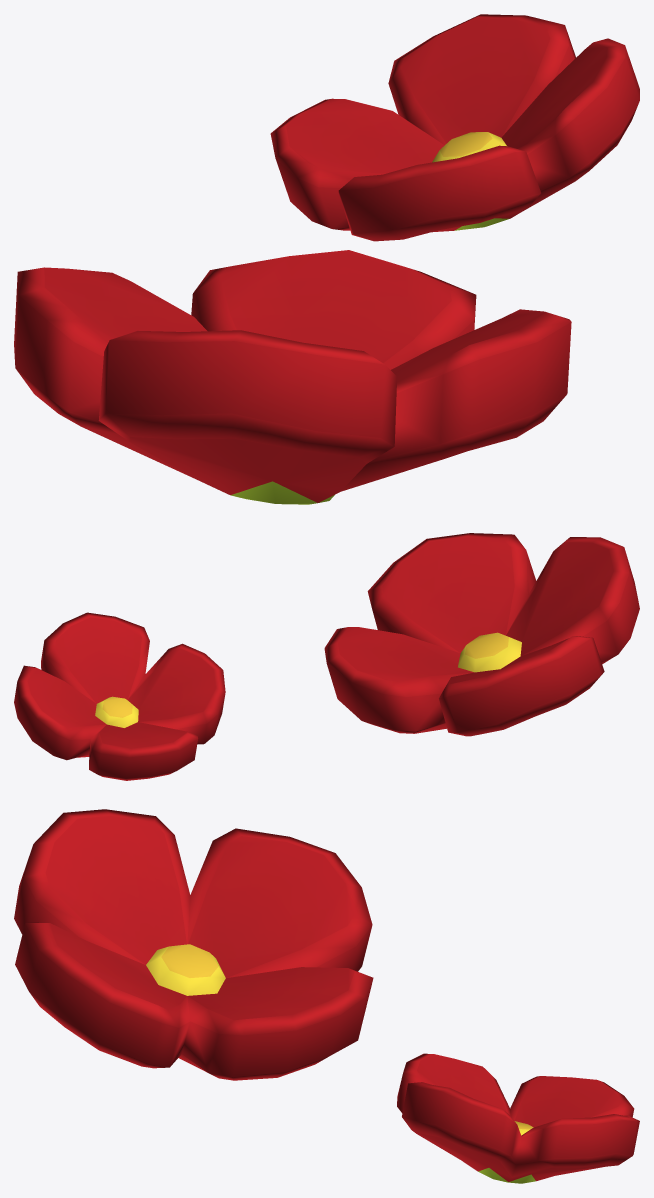
File: flower_double_red_LOD_group.fbx
The picture shows the model from 3 angles, top to bottom: view 1: azimuth 30°, elevation 25°; view 2: azimuth 150°, elevation 25°; view 3: azimuth 270°, elevation 25°; orthographic projection. The views are drawn at different scales.
Visible parts, largest first — view 1: flower_double_red_LOD0; view 2: flower_double_red_LOD0; view 3: flower_double_red_LOD0.
Boxes of the visible parts, left/top/right/bottom form: flower_double_red_LOD0: left=14, top=14, right=639, bottom=504; flower_double_red_LOD0: left=14, top=533, right=639, bottom=780; flower_double_red_LOD0: left=14, top=809, right=639, bottom=1183.
Size of what is drawn, in the model's own units: 76.15 by 24 by 76.28.
1 material, 1 textured.
